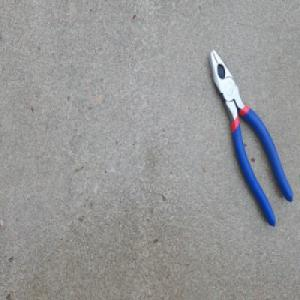Pliers: (207, 48, 293, 228)
